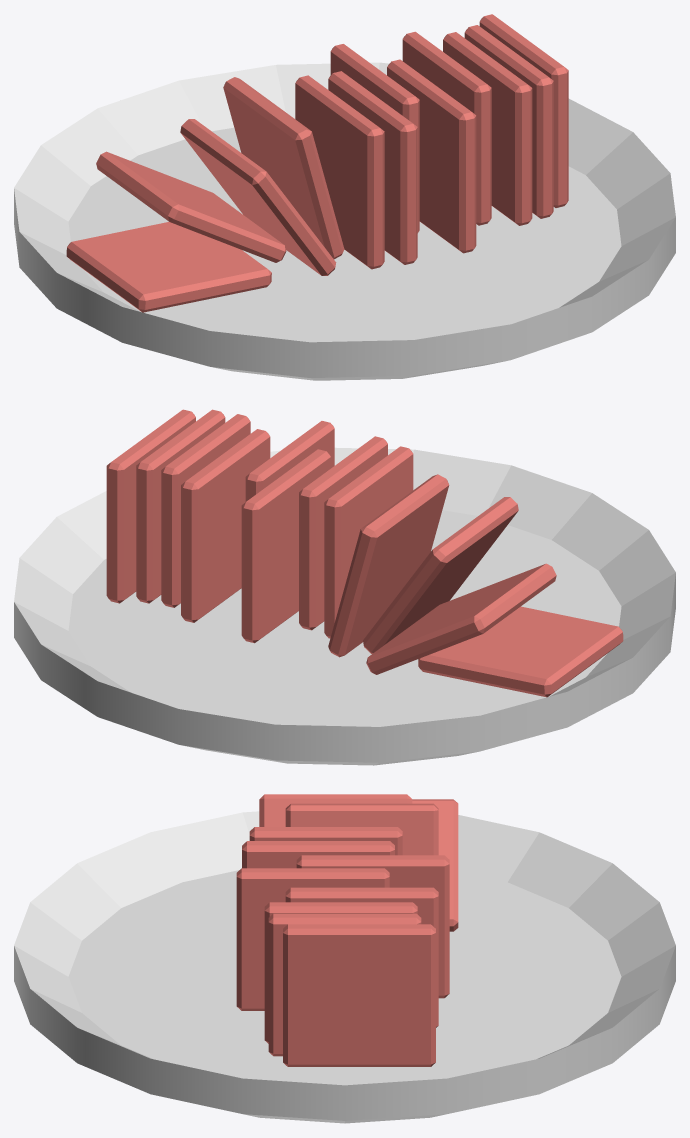
File: spam.fbx
3 views of the same model, one above another, from view 1: azimuth 30°, elevation 25°; view 2: azimuth 150°, elevation 25°; view 3: azimuth 270°, elevation 25° (orthographic).
Parts seen in each view (by area): view 1: pCylinder2, pCube17; view 2: pCylinder2, pCube17; view 3: pCylinder2, pCube17.
Part boxes in pixels (x1=…): pCylinder2: x1=14, y1=62, x2=675, y2=380; pCube17: x1=66, y1=14, x2=568, y2=312; pCylinder2: x1=14, y1=447, x2=675, y2=765; pCube17: x1=106, y1=409, x2=623, y2=697; pCylinder2: x1=14, y1=811, x2=675, y2=1123; pCube17: x1=236, y1=794, x2=458, y2=1066.
Size of the model in its own units: 43.24 by 12.9 by 43.24.
